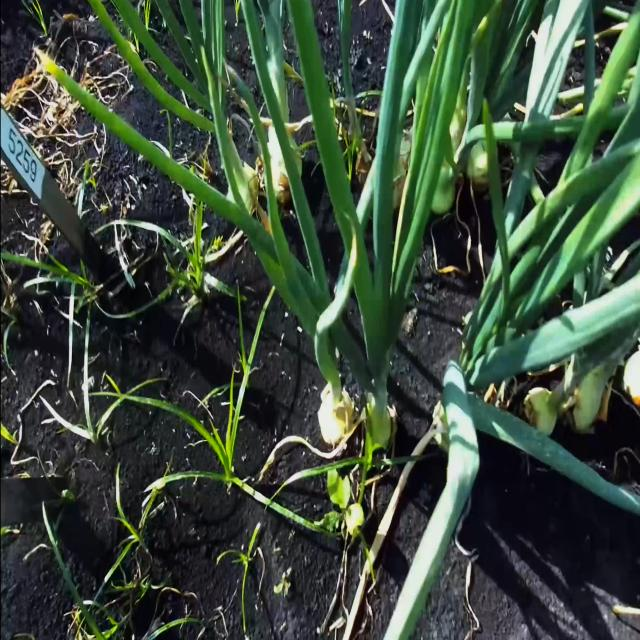onion: (260, 132, 302, 205), (565, 361, 599, 438), (321, 387, 351, 448), (229, 168, 260, 224), (523, 386, 556, 438), (428, 159, 456, 218), (363, 396, 392, 450), (623, 338, 640, 418)
